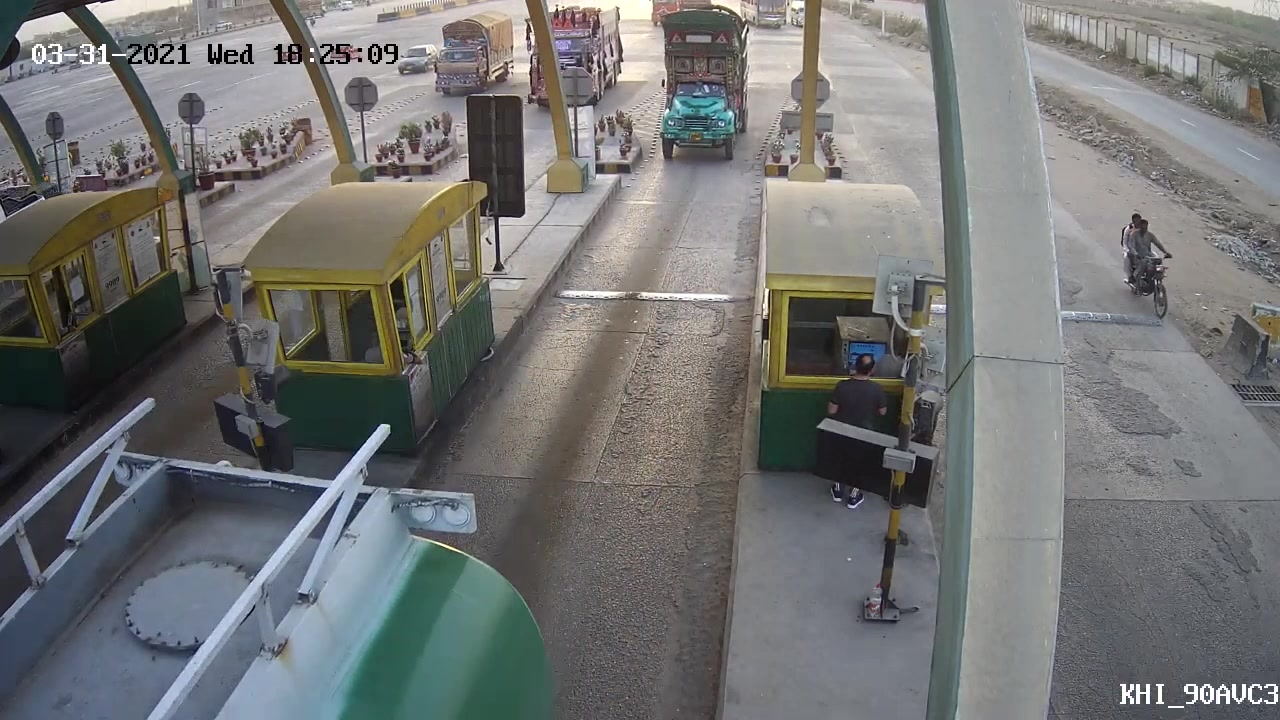F5: (649, 13, 742, 159)
